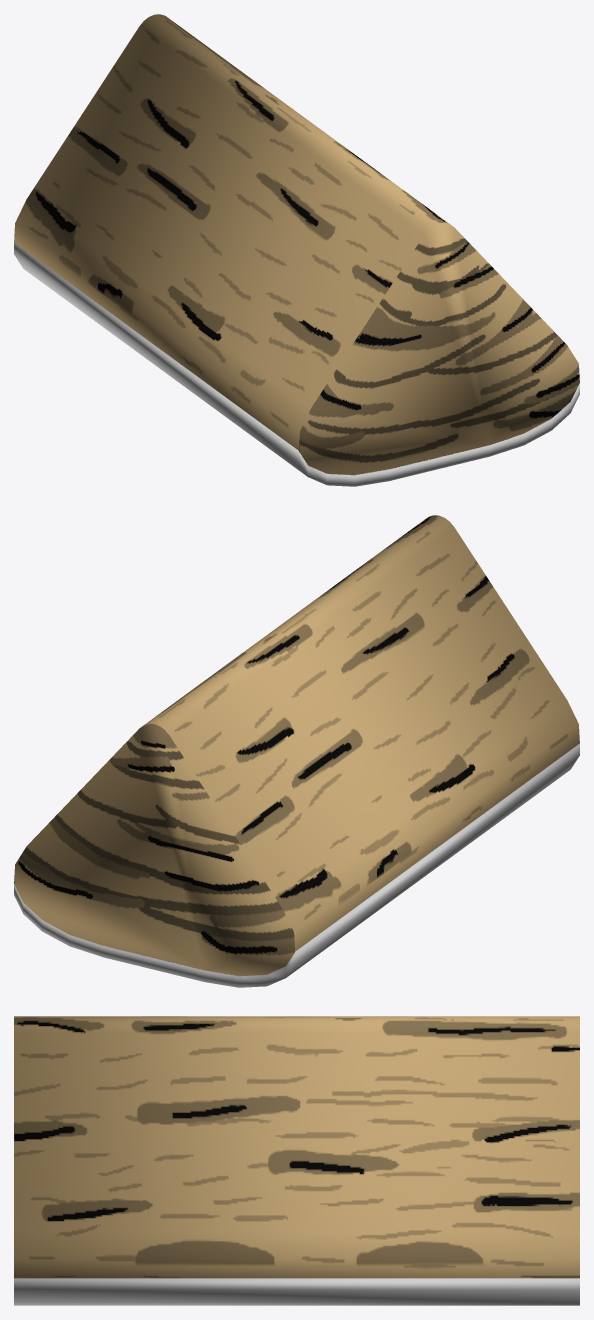
The model's file is lenha.fbx.
3 views of the same model, one above another, from view 1: azimuth 30°, elevation 25°; view 2: azimuth 150°, elevation 25°; view 3: azimuth 270°, elevation 25° (orthographic).
Visible parts, largest first — view 1: lenha; view 2: lenha; view 3: lenha.
Part boxes in pixels (x1,y1,x2,y2): lenha: (14, 14, 579, 486); lenha: (14, 515, 579, 987); lenha: (14, 1016, 579, 1305).
Size of the model in its own units: 0.1543 by 0.1289 by 0.2707.
